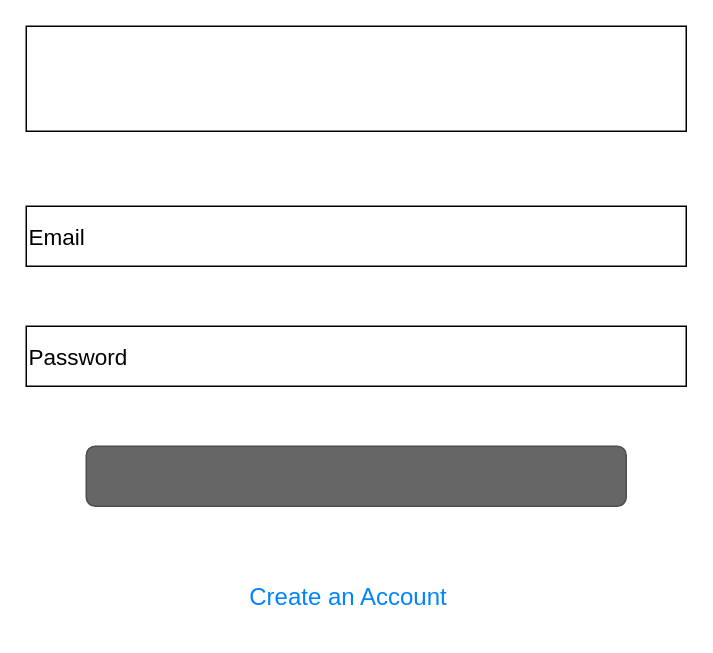
Image size: 713x653. Some labels were removed from this diagram. The centre of each missing label's shape, as x and y in pixels:
BeanTalk: the point at 355,78
Login: the point at 355,475
